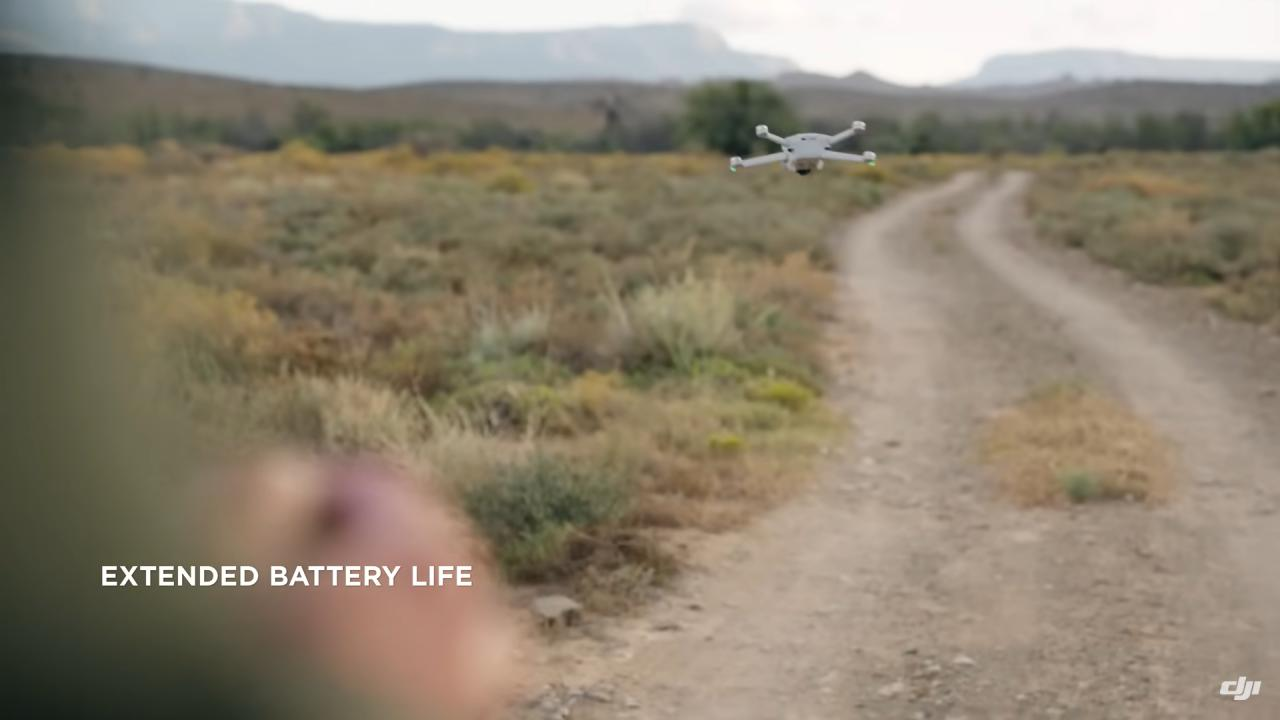Drone: (723, 110, 891, 191)
